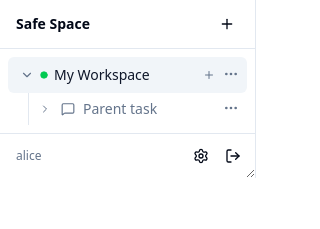
it: Sidebar — session hierarchy › does not collapse parents the user has already expanded
Expected: the text "Parent task" is shown, top-left (83, 99), bottom-right (157, 118)
Click the button named "Expand subtasks": click(45, 109) top-left (37, 101), bottom-right (53, 117)
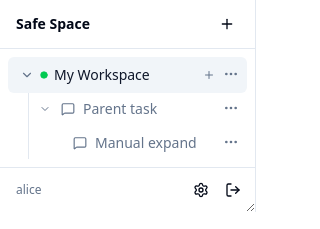
Now the text "Manual expand" is shown, box top-left (95, 133), bottom-right (211, 153)
